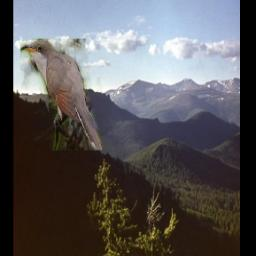Cuckoo: (21, 40, 104, 152)
